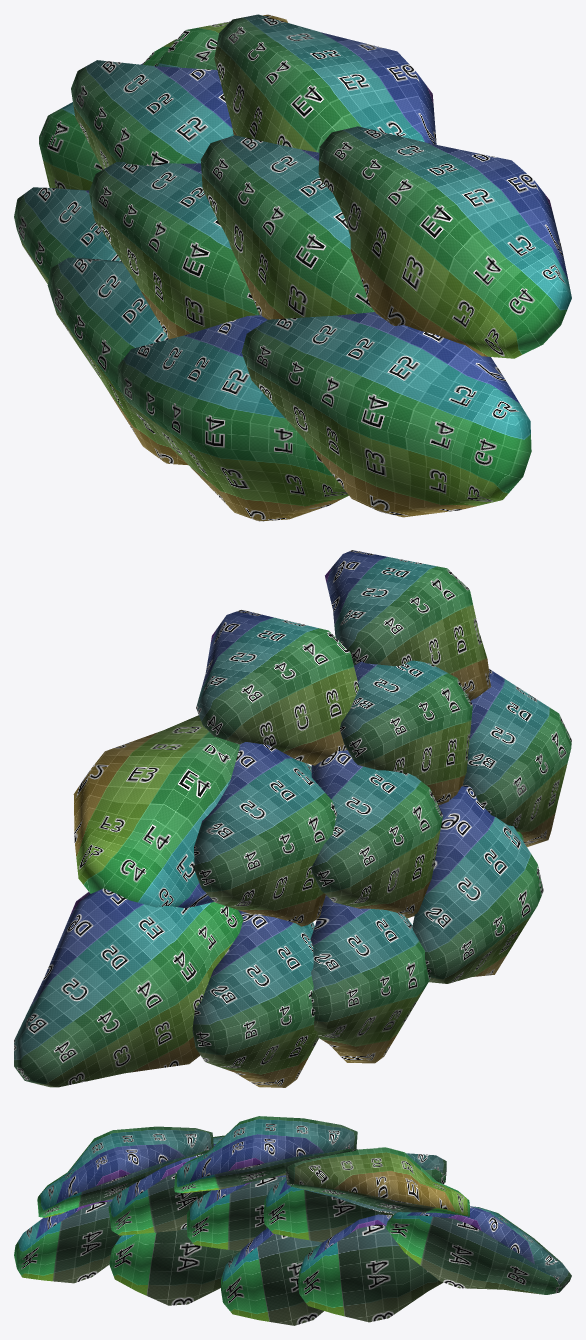
Rendered from scaleotherSide.glb.
The picture shows the model from 3 angles, top to bottom: view 1: azimuth 30°, elevation 25°; view 2: azimuth 150°, elevation 25°; view 3: azimuth 270°, elevation 25°; orthographic projection. The views are drawn at different scales.
Visible parts, largest first — view 1: DragonScaleOtherSide; view 2: DragonScaleOtherSide; view 3: DragonScaleOtherSide.
Boxes of the visible parts, x1,y1,x2,y2 form: DragonScaleOtherSide: (14,14,571,521); DragonScaleOtherSide: (14,550,571,1087); DragonScaleOtherSide: (14,1116,571,1325).
Bounding box in the file's own units: 4.85 × 6.37 × 13.98.
1 material, 1 textured.
